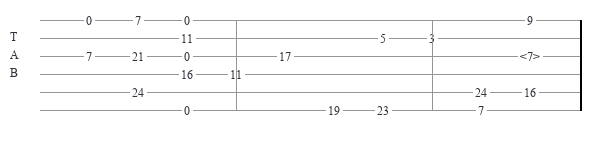0: (86, 14, 96, 27), (184, 50, 194, 63), (184, 14, 194, 27), (184, 104, 194, 117)
11: (181, 32, 197, 45), (230, 68, 246, 81)
16: (181, 68, 197, 81), (524, 86, 540, 99)
17: (279, 50, 295, 63)
19: (328, 104, 344, 117)
21: (132, 50, 148, 63)
23: (377, 104, 393, 117)
24: (132, 86, 148, 99), (475, 86, 491, 99)
3: (429, 32, 439, 45)
5: (380, 32, 390, 45)
7: (86, 50, 96, 63), (135, 14, 145, 27), (478, 104, 488, 117)
9: (527, 14, 537, 27)
harmonic: (520, 50, 544, 63)
